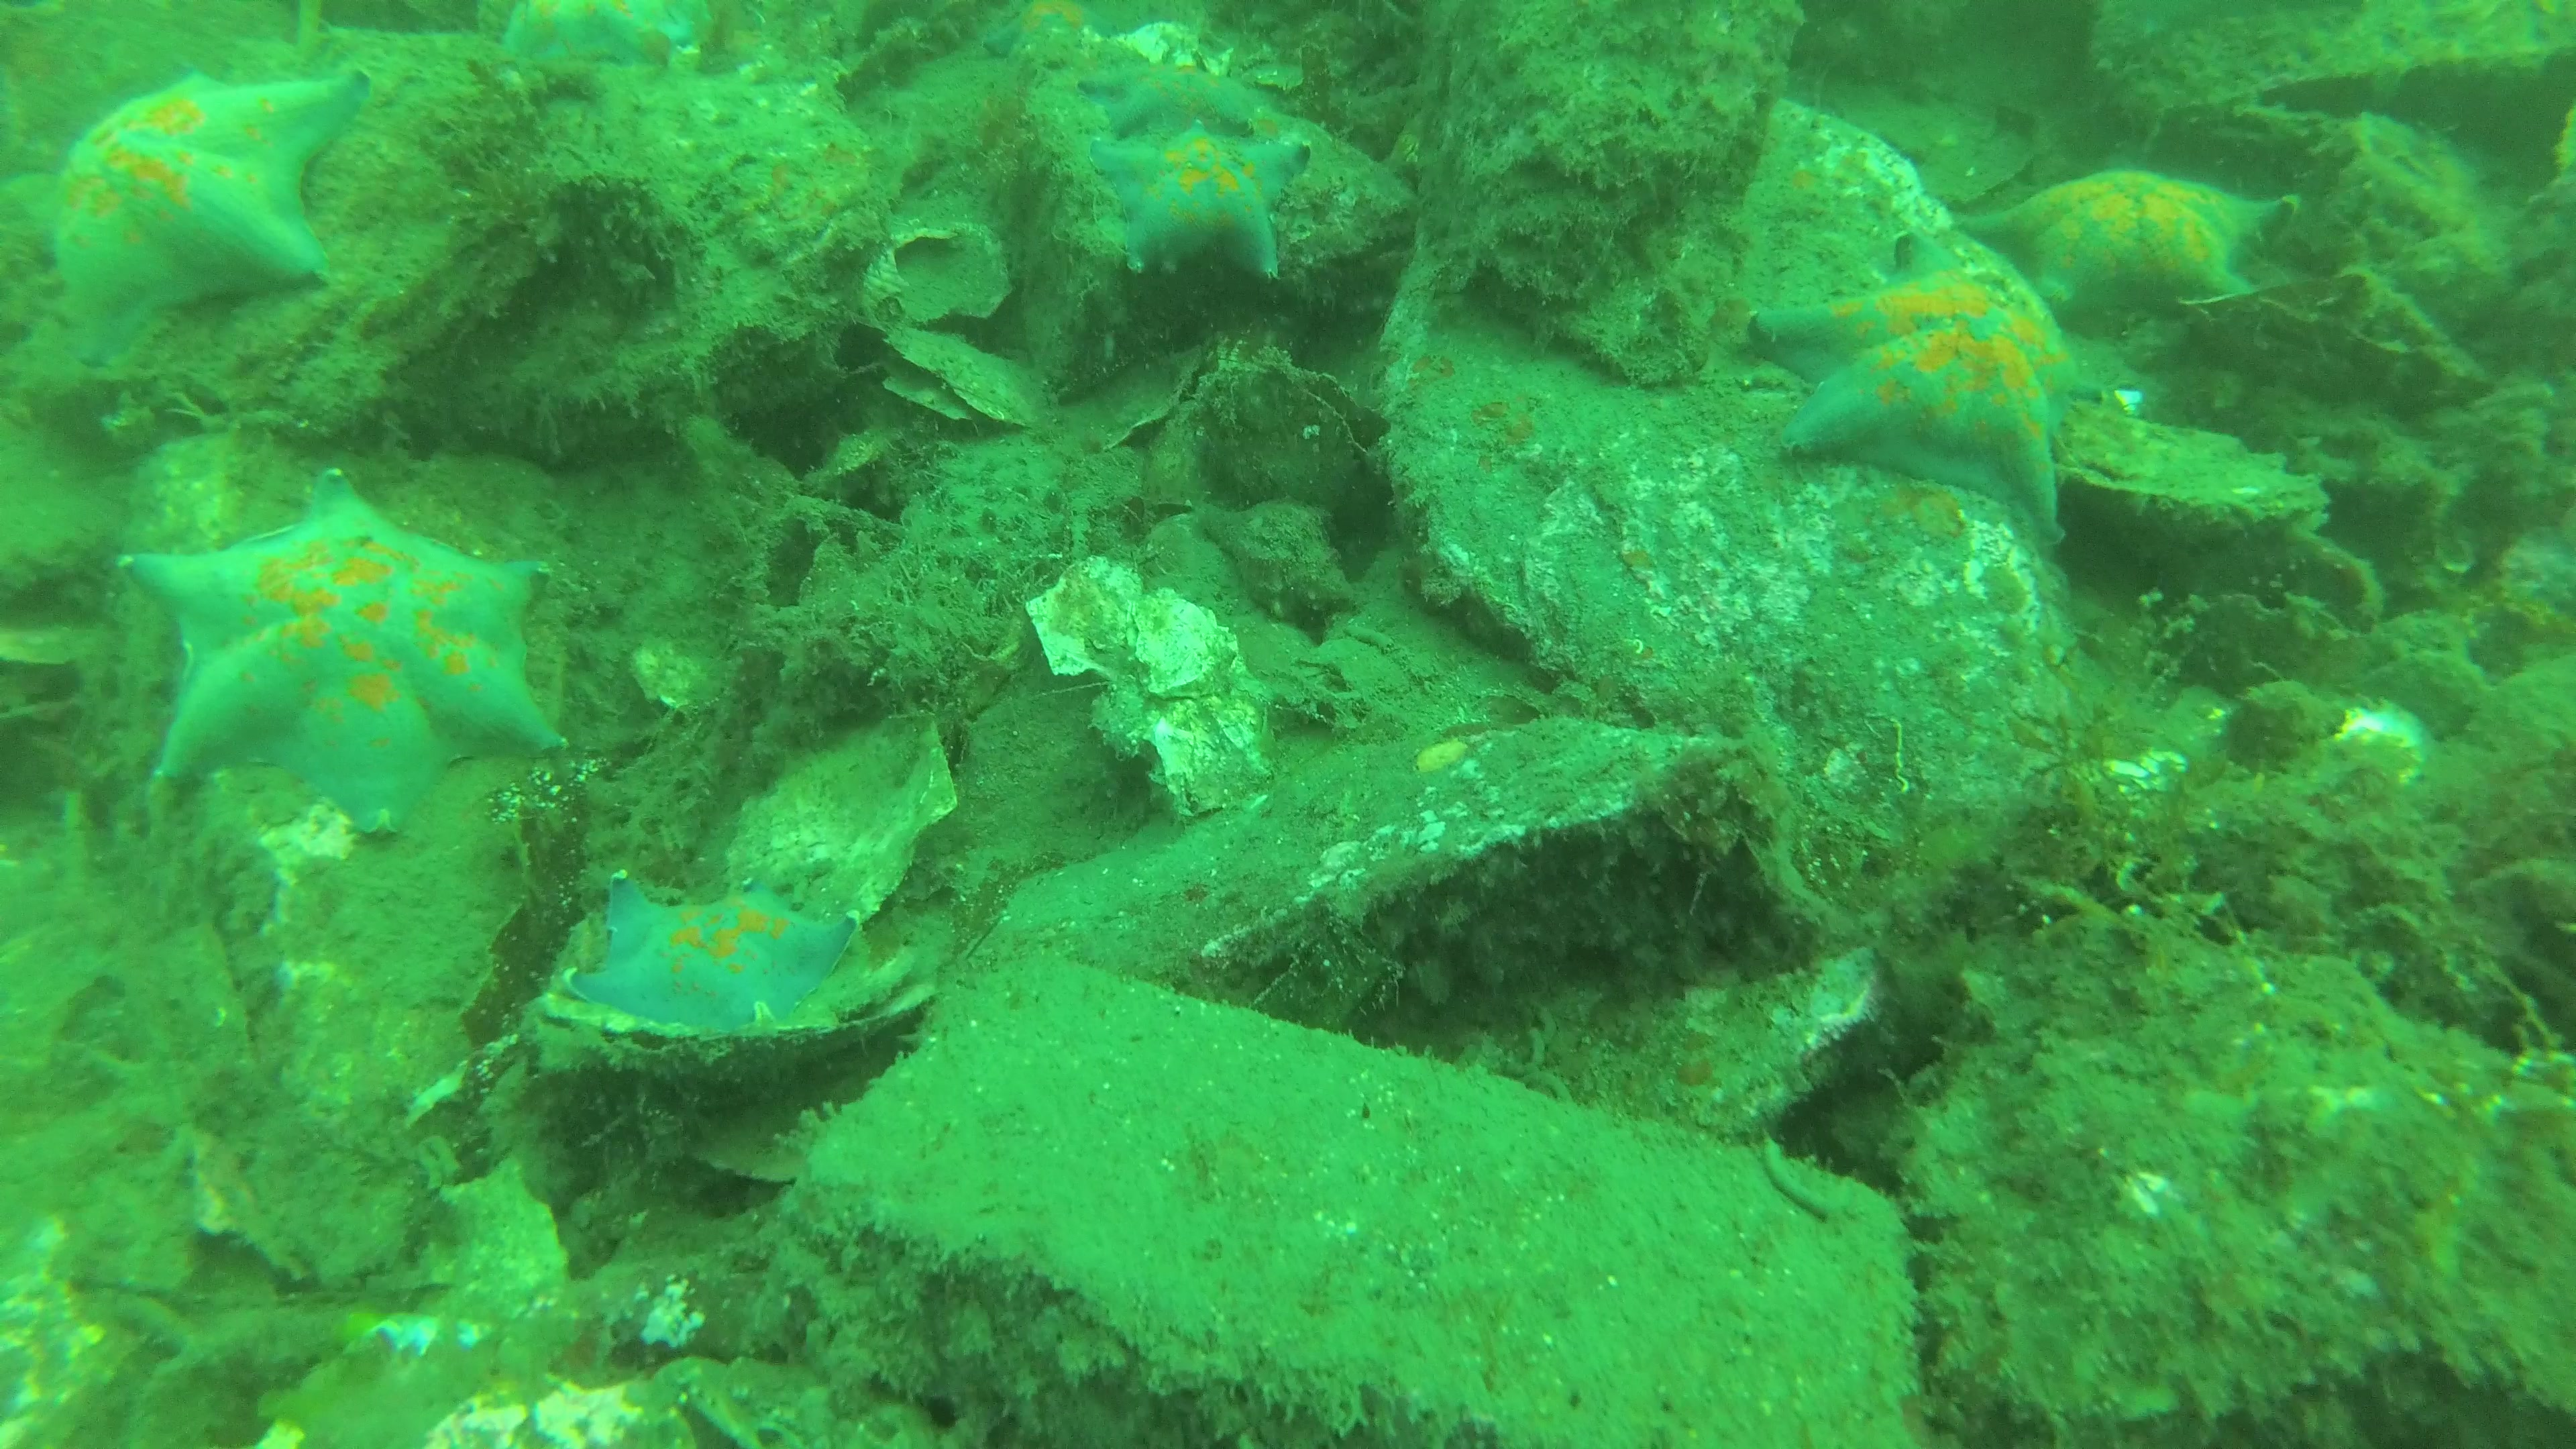starfish: (113, 481, 563, 839), (1746, 248, 2121, 552), (35, 64, 349, 354), (1969, 150, 2302, 311), (571, 869, 855, 1030), (1093, 131, 1309, 295), (492, 2, 692, 87), (991, 0, 1122, 48)
